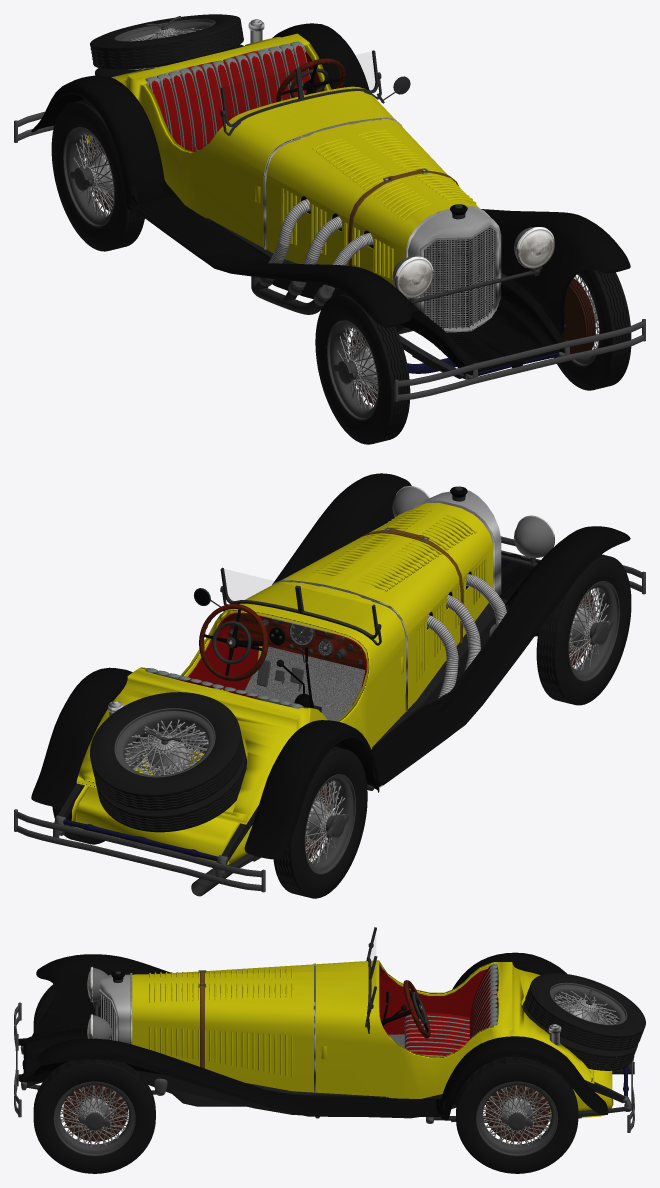
3 renders of one model, top to bottom at view 1: azimuth 30°, elevation 25°; view 2: azimuth 150°, elevation 25°; view 3: azimuth 270°, elevation 25°, orthographic. The views are drawn at different scales.
Visible parts, largest first — view 1: benz_ssk_2017_v02, benz_ssk_2017_v02_benz_ssk_2017_v02_acmat_6_0.004, benz_ssk_2017_v02_benz_ssk_2017_v02_acmat_6_0.006, benz_ssk_2017_v02_benz_ssk_2017_v02_acmat_6_0.003, benz_ssk_2017_v02_benz_ssk_2017_v02_acmat_6_0.005, benz_ssk_2017_v02_benz_ssk_2017_v02_acmat_8_0.003, benz_ssk_2017_v02_benz_ssk_2017_v02_acmat_6_0.002, benz_ssk_2017_v02_benz_ssk_2017_v02_acmat_6_0.001, benz_ssk_2017_v02_benz_ssk_2017_v02_acmat_8_0.001; view 2: benz_ssk_2017_v02, benz_ssk_2017_v02_benz_ssk_2017_v02_acmat_6_0.003, benz_ssk_2017_v02_benz_ssk_2017_v02_acmat_6_0.004, benz_ssk_2017_v02_benz_ssk_2017_v02_acmat_6_0.006, benz_ssk_2017_v02_benz_ssk_2017_v02_acmat_6_0.002, benz_ssk_2017_v02_benz_ssk_2017_v02_acmat_8_0.002, benz_ssk_2017_v02_benz_ssk_2017_v02_acmat_6_0.001, benz_ssk_2017_v02_benz_ssk_2017_v02_acmat_8_0.003, benz_ssk_2017_v02_benz_ssk_2017_v02_acmat_8_0.001; view 3: benz_ssk_2017_v02, benz_ssk_2017_v02_benz_ssk_2017_v02_acmat_6_0.005, benz_ssk_2017_v02_benz_ssk_2017_v02_acmat_6_0.003, benz_ssk_2017_v02_benz_ssk_2017_v02_acmat_8_0.001, benz_ssk_2017_v02_benz_ssk_2017_v02_acmat_6_0.002, benz_ssk_2017_v02_benz_ssk_2017_v02_acmat_6_0.004, benz_ssk_2017_v02_benz_ssk_2017_v02_acmat_8_0.002, benz_ssk_2017_v02_benz_ssk_2017_v02_acmat_6_0.001, benz_ssk_2017_v02_benz_ssk_2017_v02_acmat_8_0.003.
Part boxes in pixels (x1=…): benz_ssk_2017_v02: x1=14, y1=16, x2=645, y2=420; benz_ssk_2017_v02_benz_ssk_2017_v02_acmat_6_0.004: x1=95, y1=44, x2=630, y2=444; benz_ssk_2017_v02_benz_ssk_2017_v02_acmat_6_0.006: x1=51, y1=100, x2=144, y2=251; benz_ssk_2017_v02_benz_ssk_2017_v02_acmat_6_0.003: x1=90, y1=14, x2=243, y2=70; benz_ssk_2017_v02_benz_ssk_2017_v02_acmat_6_0.005: x1=77, y1=99, x2=631, y2=390; benz_ssk_2017_v02_benz_ssk_2017_v02_acmat_8_0.003: x1=337, y1=276, x2=598, y2=409; benz_ssk_2017_v02_benz_ssk_2017_v02_acmat_6_0.002: x1=90, y1=21, x2=242, y2=76; benz_ssk_2017_v02_benz_ssk_2017_v02_acmat_6_0.001: x1=339, y1=293, x2=409, y2=443; benz_ssk_2017_v02_benz_ssk_2017_v02_acmat_8_0.001: x1=78, y1=134, x2=599, y2=348; benz_ssk_2017_v02: x1=14, y1=473, x2=645, y2=896; benz_ssk_2017_v02_benz_ssk_2017_v02_acmat_6_0.003: x1=90, y1=692, x2=243, y2=810; benz_ssk_2017_v02_benz_ssk_2017_v02_acmat_6_0.004: x1=95, y1=556, x2=631, y2=818; benz_ssk_2017_v02_benz_ssk_2017_v02_acmat_6_0.006: x1=273, y1=746, x2=367, y2=898; benz_ssk_2017_v02_benz_ssk_2017_v02_acmat_6_0.002: x1=91, y1=734, x2=246, y2=832; benz_ssk_2017_v02_benz_ssk_2017_v02_acmat_8_0.002: x1=124, y1=719, x2=208, y2=775; benz_ssk_2017_v02_benz_ssk_2017_v02_acmat_6_0.001: x1=97, y1=554, x2=607, y2=831; benz_ssk_2017_v02_benz_ssk_2017_v02_acmat_8_0.003: x1=154, y1=587, x2=608, y2=775; benz_ssk_2017_v02_benz_ssk_2017_v02_acmat_8_0.001: x1=305, y1=782, x2=338, y2=862; benz_ssk_2017_v02: x1=14, y1=927, x2=634, y2=1173; benz_ssk_2017_v02_benz_ssk_2017_v02_acmat_6_0.005: x1=33, y1=1059, x2=155, y2=1173; benz_ssk_2017_v02_benz_ssk_2017_v02_acmat_6_0.003: x1=525, y1=973, x2=645, y2=1050; benz_ssk_2017_v02_benz_ssk_2017_v02_acmat_8_0.001: x1=60, y1=1085, x2=129, y2=1147; benz_ssk_2017_v02_benz_ssk_2017_v02_acmat_6_0.002: x1=522, y1=986, x2=643, y2=1070; benz_ssk_2017_v02_benz_ssk_2017_v02_acmat_6_0.004: x1=33, y1=984, x2=638, y2=1116; benz_ssk_2017_v02_benz_ssk_2017_v02_acmat_8_0.002: x1=554, y1=991, x2=619, y2=1024; benz_ssk_2017_v02_benz_ssk_2017_v02_acmat_6_0.001: x1=33, y1=984, x2=635, y2=1109; benz_ssk_2017_v02_benz_ssk_2017_v02_acmat_8_0.003: x1=60, y1=1086, x2=110, y2=1126.
Size of the model in its own units: 5.81 by 4.53 by 15.21.
Materials: 31 (12 with a texture image).
